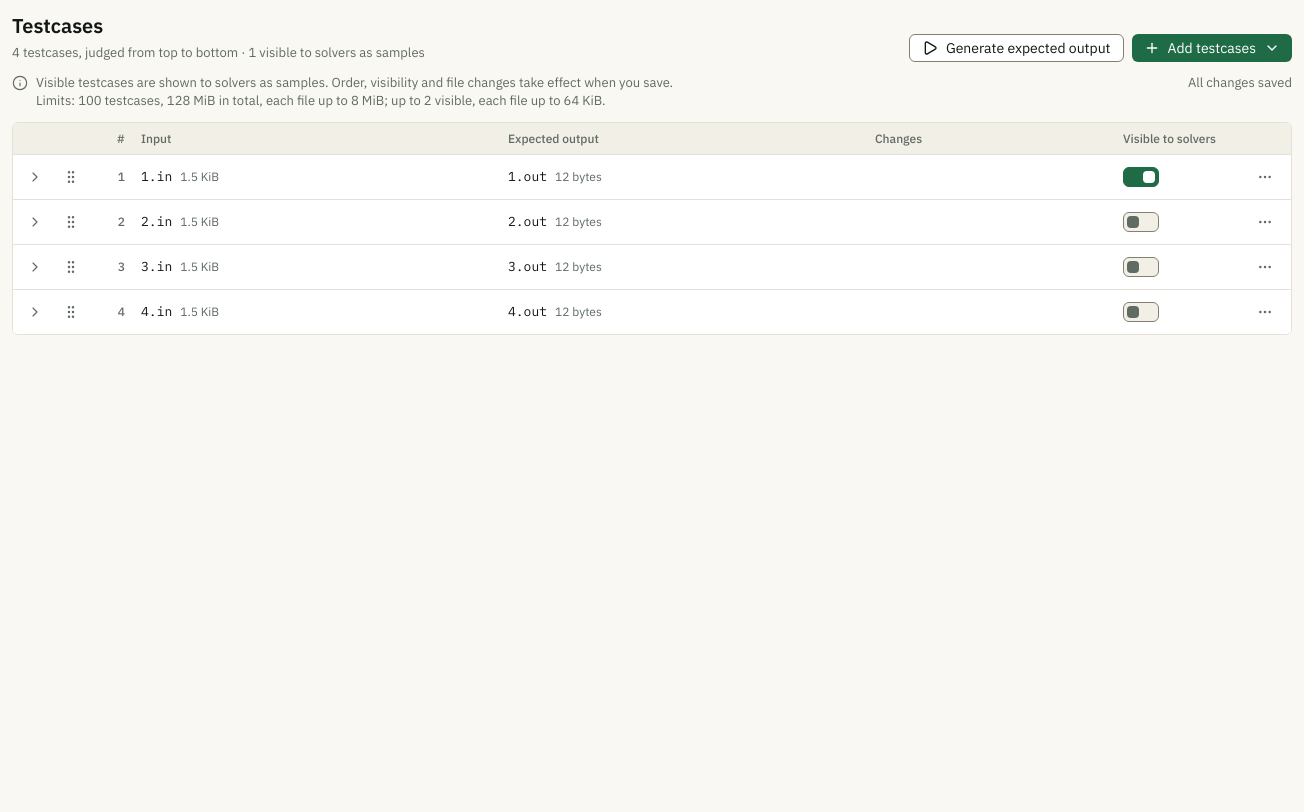
Test: changes wait for Save › holds a visibility change until Save and then sends the whole list once
The image size is (1304, 812).
Click the switch named "Visible to solvers, testcase 3" at (1141, 267), box 1123,257 -> 1159,277
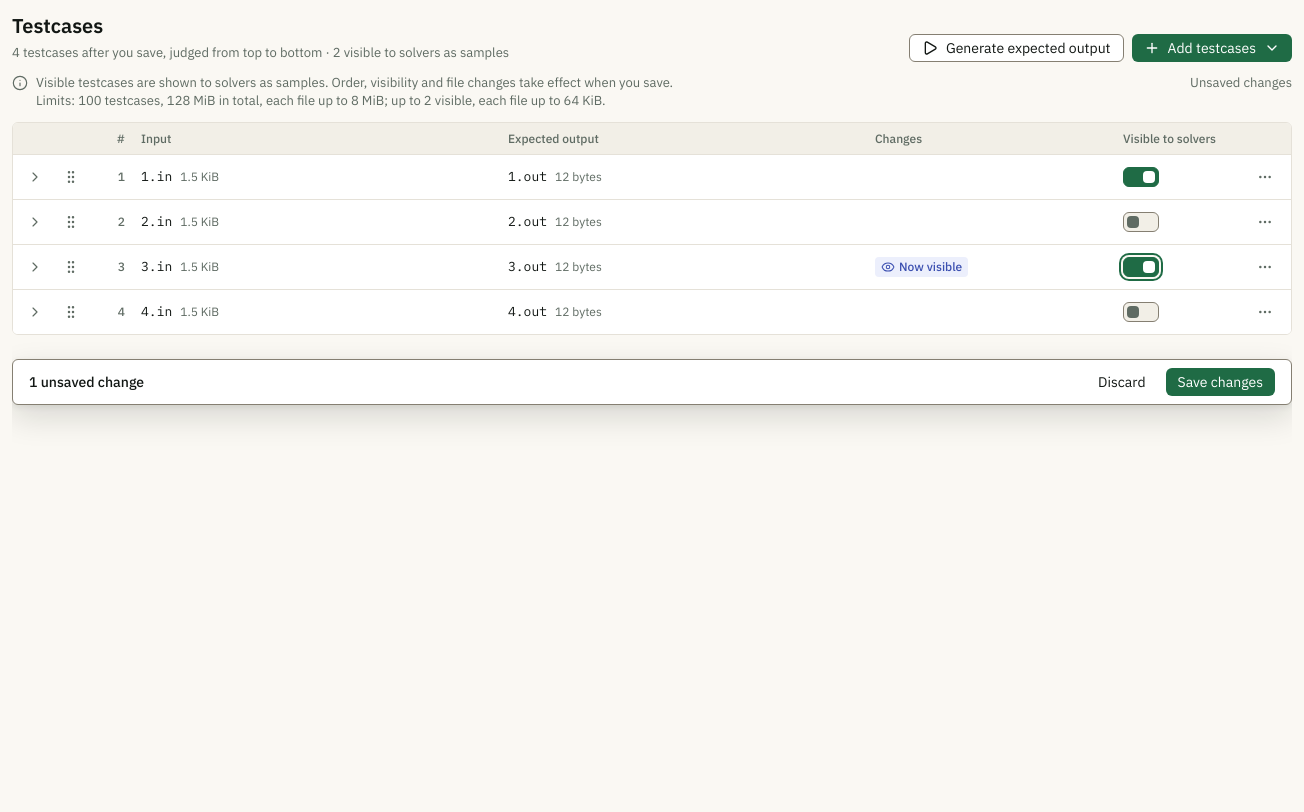
Check: the text "Now visible" is shown, box 875,257 -> 968,277
Check: the text "1 unsaved change" is shown, box 29,372 -> 144,392
Check: the text "4 testcases after you save" is shown, box 12,44 -> 509,62
Click the button "Save changes" at (1220, 382), box 1166,368 -> 1275,396
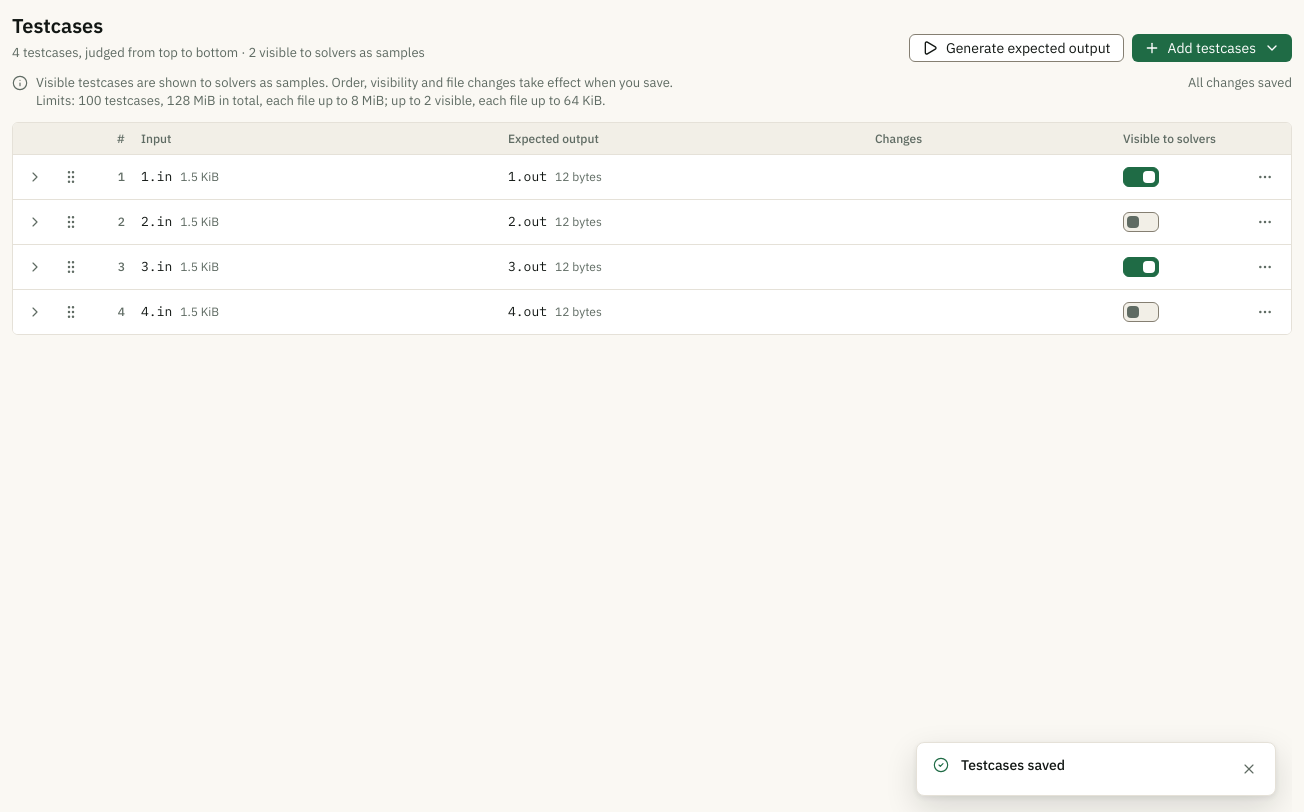
Check: the message "Unsaved changes" is gone
Check: the text "Now visible" is gone
